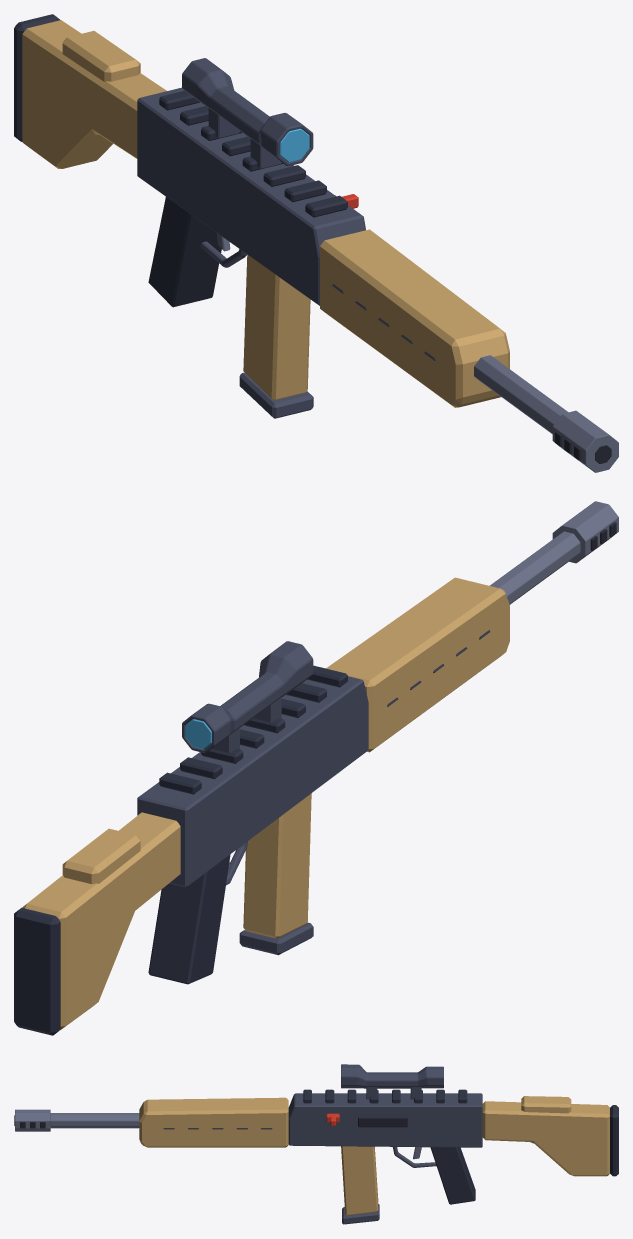
Rendered from myw_battlerifle.glb.
3 views of the same model, one above another, from view 1: azimuth 30°, elevation 25°; view 2: azimuth 150°, elevation 25°; view 3: azimuth 270°, elevation 25° (orthographic). The views are drawn at different scales.
Parts seen in each view (by area): view 1: Furniture, Body, Mag, Scope, Barrel; view 2: Furniture, Body, Mag, Scope, Barrel; view 3: Furniture, Body, Mag, Scope, Barrel.
Part boxes in pixels (box(x1,y1,x2,y2)): Furniture: box(14, 14, 509, 407); Body: box(137, 87, 365, 307); Mag: box(239, 255, 313, 418); Scope: box(182, 58, 313, 168); Barrel: box(474, 355, 618, 472); Furniture: box(14, 577, 509, 1035); Body: box(137, 665, 368, 984); Mag: box(239, 793, 313, 955); Scope: box(182, 641, 313, 752); Barrel: box(490, 501, 618, 604); Furniture: box(139, 1096, 618, 1176); Body: box(288, 1089, 482, 1204); Mag: box(341, 1146, 379, 1224); Scope: box(341, 1064, 443, 1099); Barrel: box(14, 1109, 139, 1131).
Bounding box in the file's own units: 0.4575 × 1.53 × 5.46.
